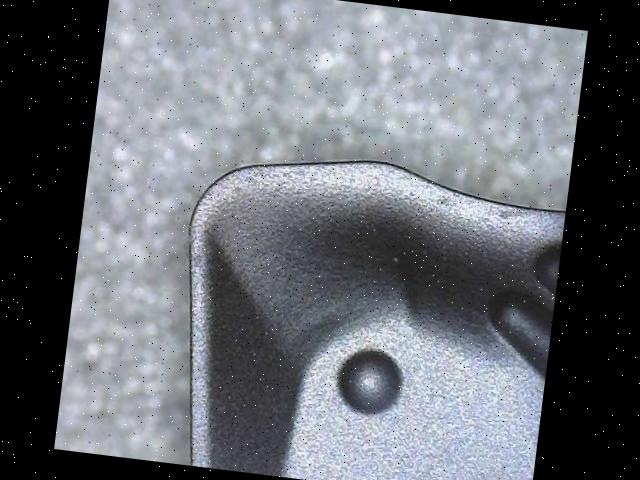normal: (185, 159, 564, 468)
